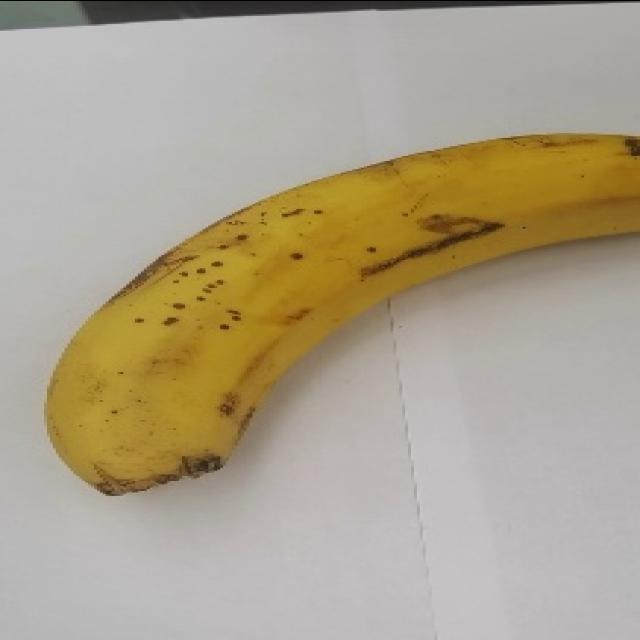Banana: (44, 131, 639, 496)
